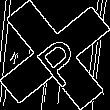P_NW: (25, 24, 85, 86)
